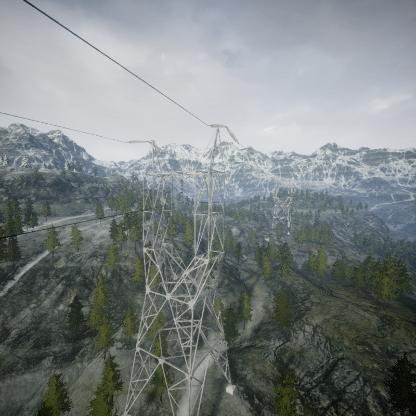tower: (125, 120, 241, 416), (271, 177, 295, 236)
